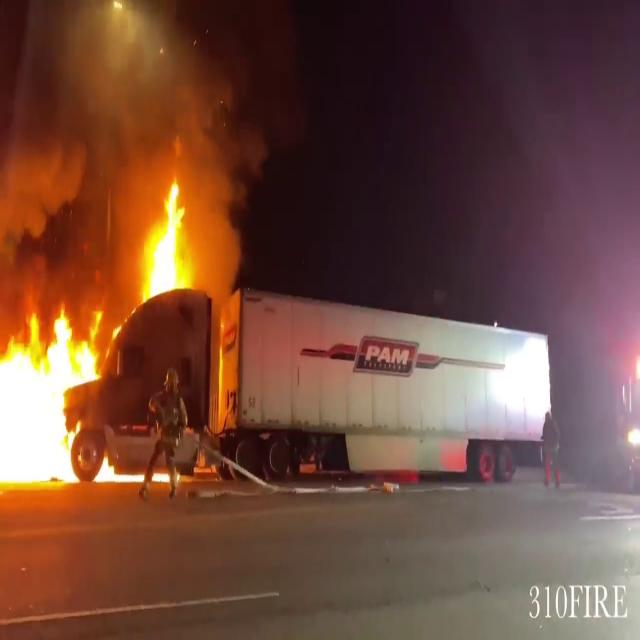Fire: (0, 304, 116, 494), (140, 176, 193, 306)
Smoke: (0, 0, 261, 281)
